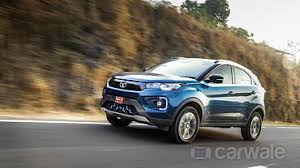Tata Nexon: (97, 55, 265, 142)
